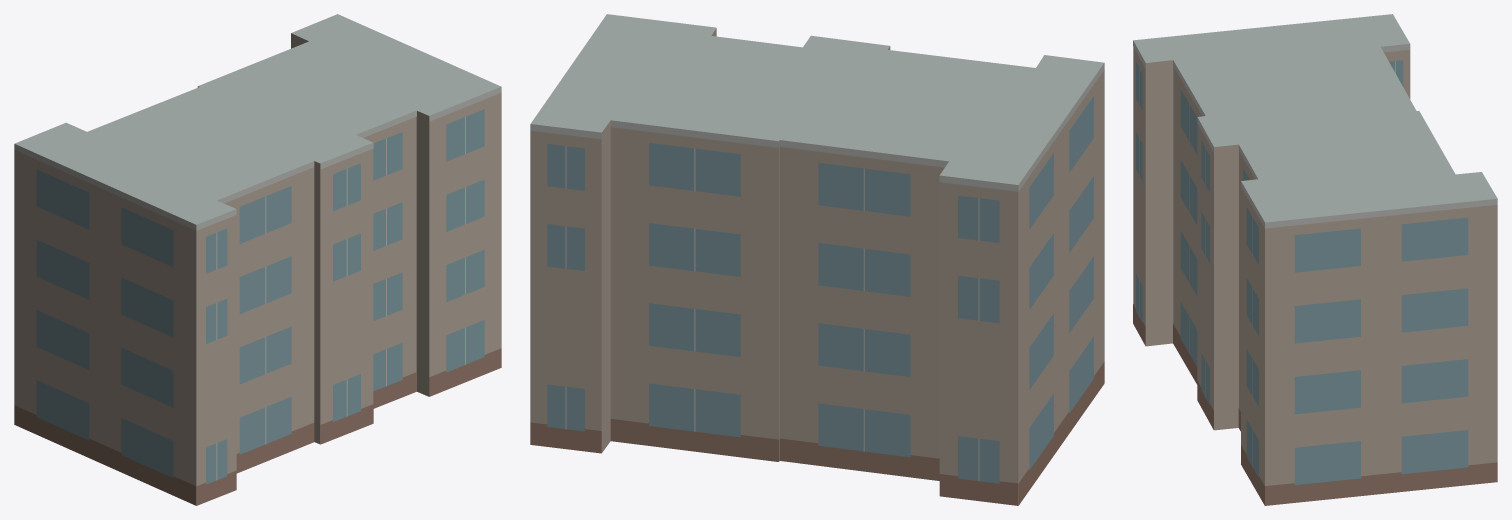
Rendered from survey-upis-32582349.glb.
The picture shows the model from 3 angles, left to right: view 1: azimuth 30°, elevation 25°; view 2: azimuth 150°, elevation 25°; view 3: azimuth 270°, elevation 25°; orthographic projection. The views are drawn at different scales.
Parts seen in each view (by area): view 1: survey-upis-32582349.tmp; view 2: survey-upis-32582349.tmp; view 3: survey-upis-32582349.tmp.
Boxes of the visible parts, x1,y1,x2,y2 form: survey-upis-32582349.tmp: (14,14,501,505); survey-upis-32582349.tmp: (530,14,1104,505); survey-upis-32582349.tmp: (1133,14,1497,505).
Size of the model in its own units: 18.32 by 11.6 by 13.54.
